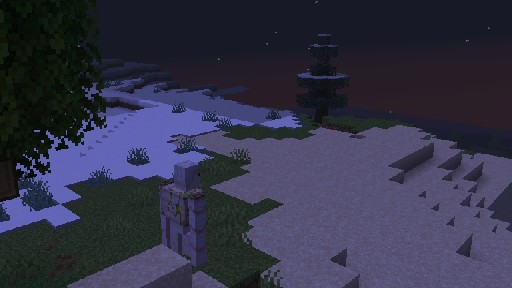iron_golem: (158, 159, 207, 270)
